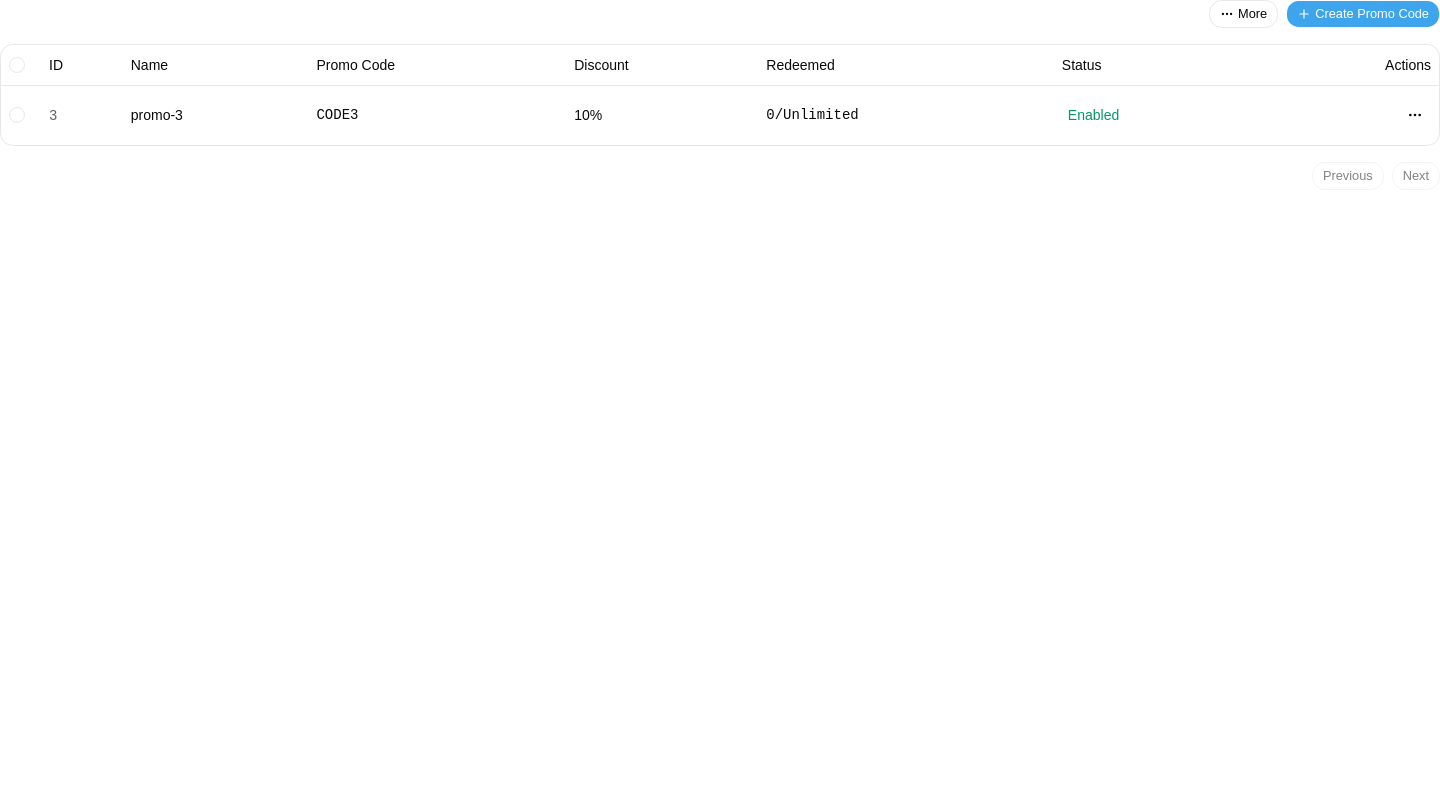
Test: promo code bulk delete › cleans up invalid promo codes via the batch-shaped invalid contract
Expected: the text "promo-3" is shown, [123,85,308,145]
# "Delete Invalid" lives in the "More" menu, not a standalone button.
Click the button "More". click: [1244, 14]
box: [1209,0,1278,28]
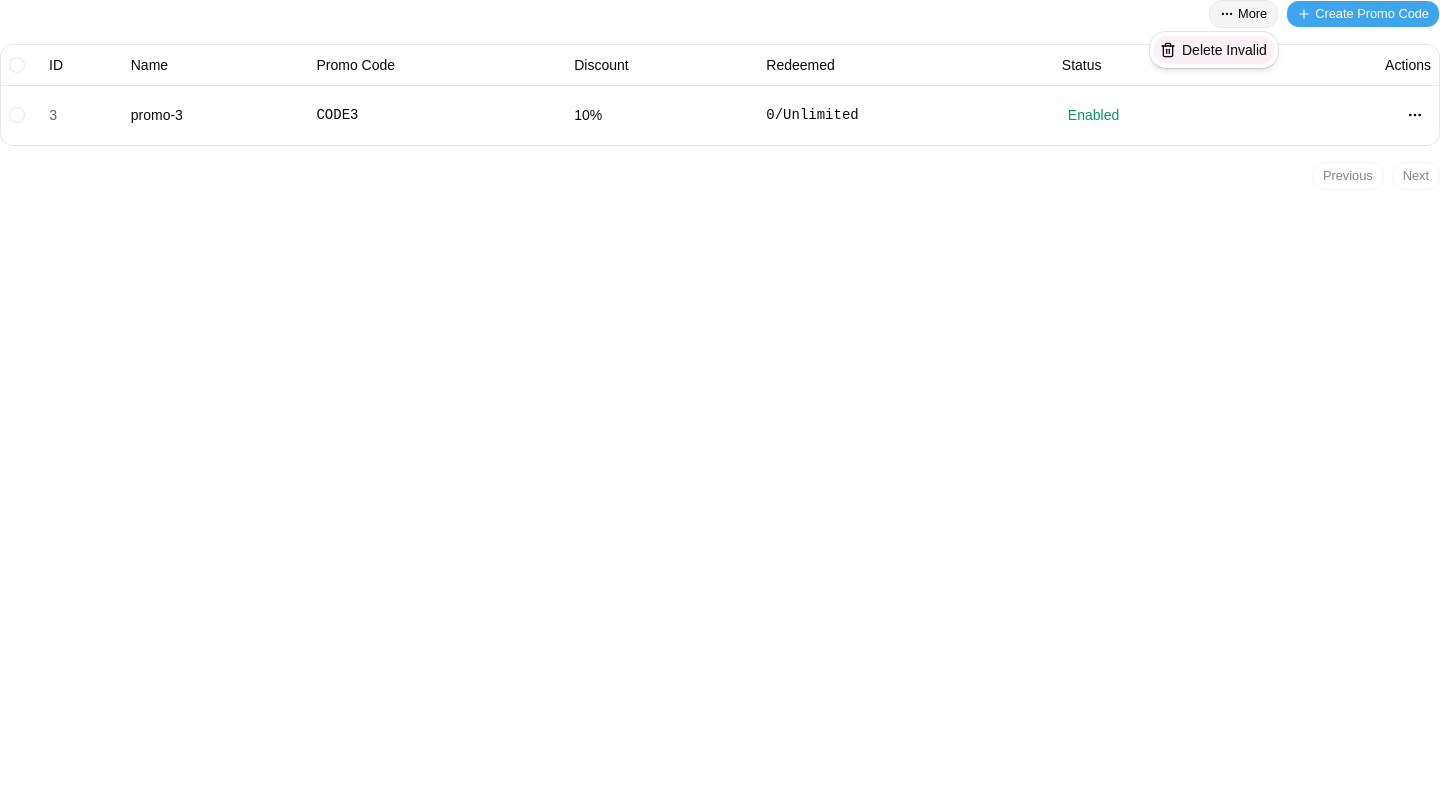
Click the menu item "Delete Invalid". click: [1214, 50]
box: [1154,36,1274,64]
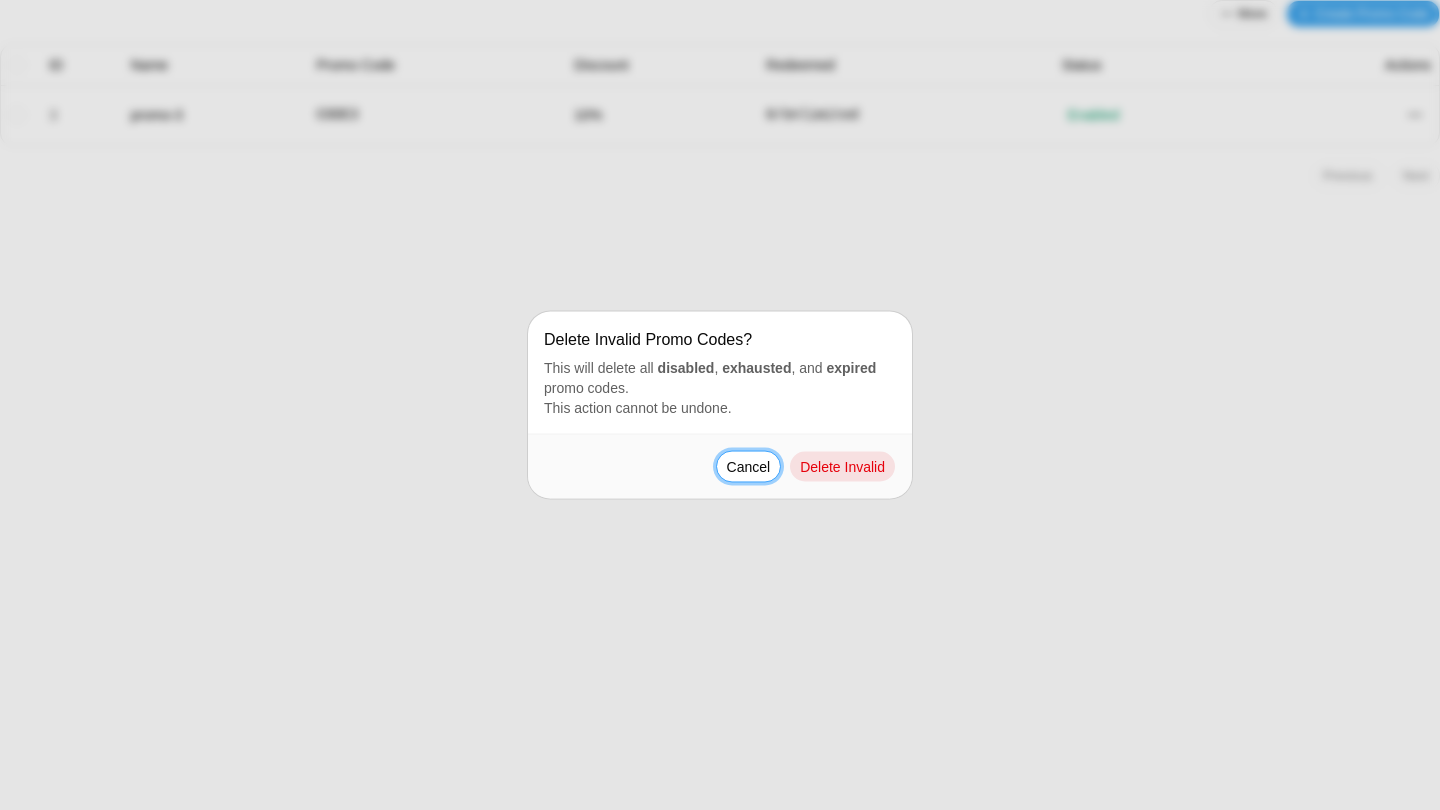
Click the button "Delete Invalid". click: [843, 466]
box: [789,450,896,482]
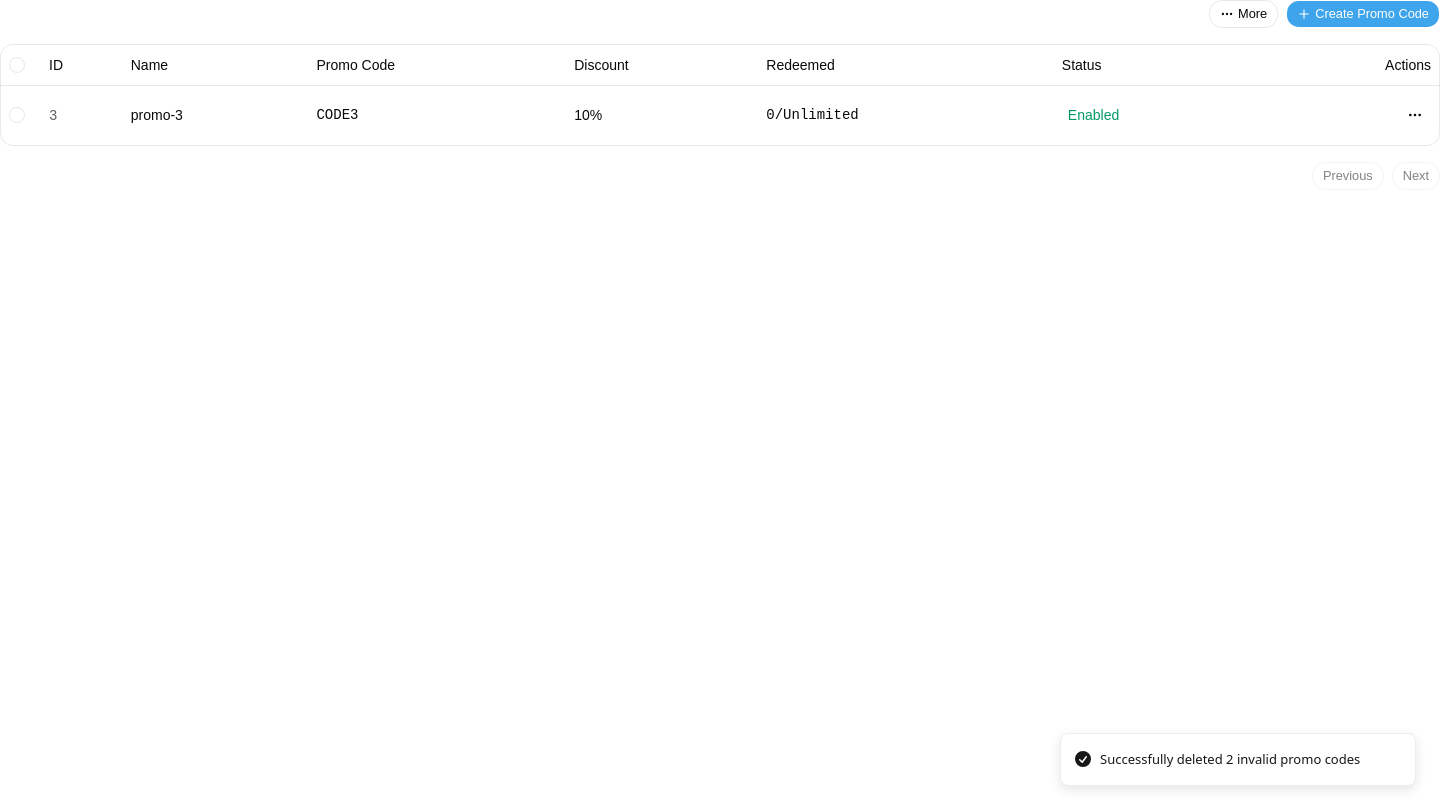
Expected: the text "Successfully deleted 2 invalid promo codes" is shown, [1100,750,1360,769]
